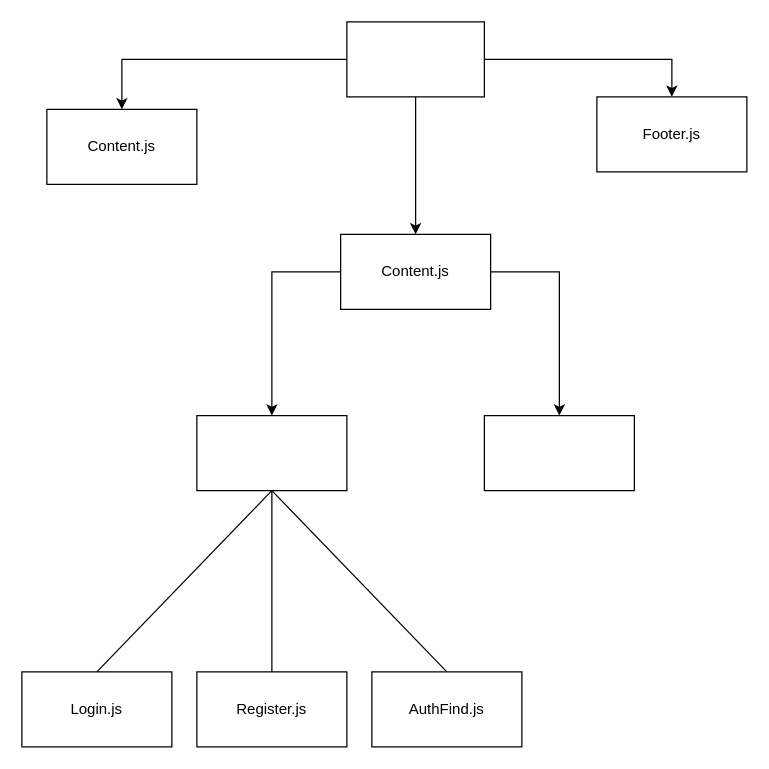
Image size: 769x769. Some labels were removed from this diagram. The centre of each missing label's shape, as x and y in pixels:
App.js: the point at 415,59
Main.js: the point at 558,452
User.js: the point at 271,452
